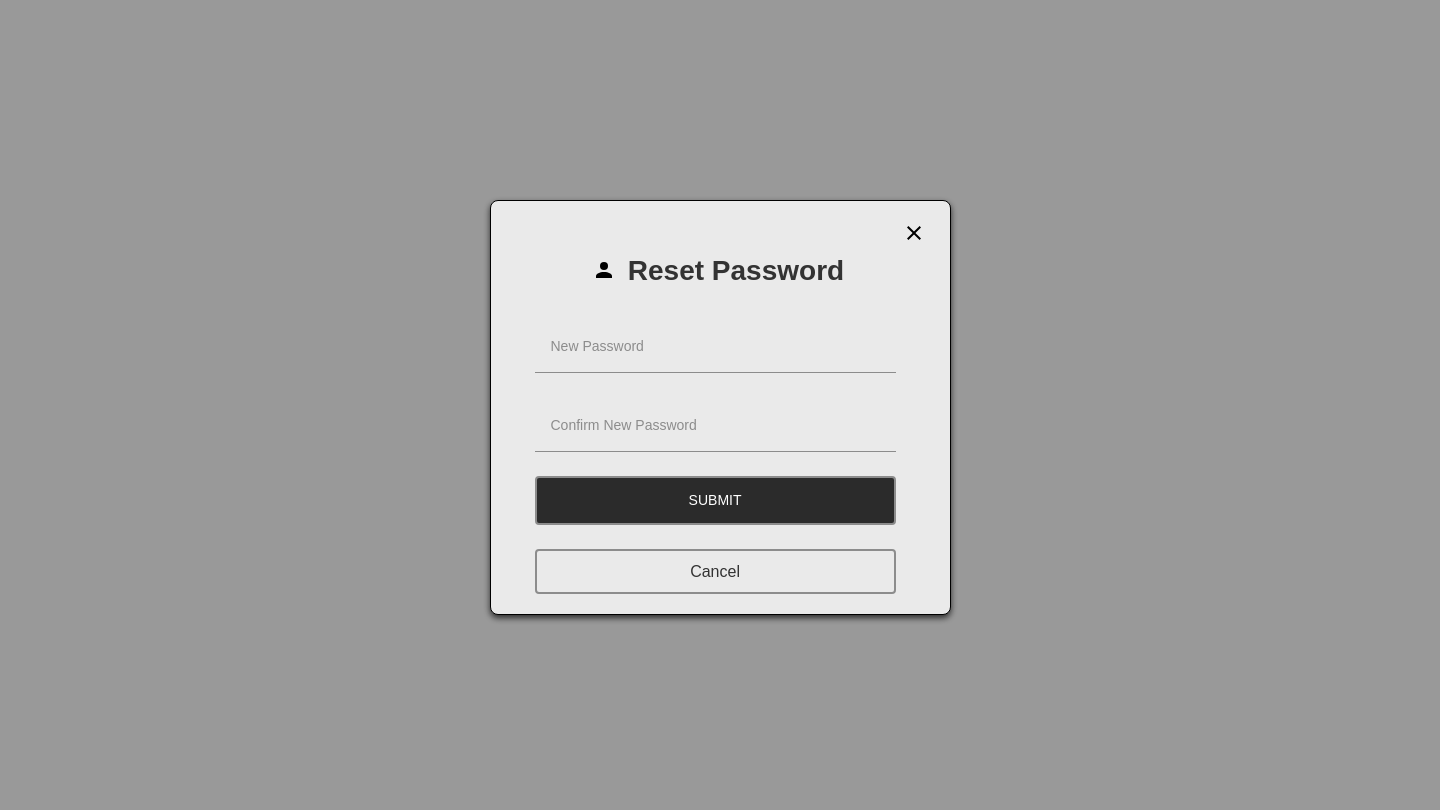
Test: Reset Password › displays alert on invalid token
Check: the heading "Reset Password" is shown, box [628,249,844,294]
In the password field with placeholder "New Password": (715, 345) [534,318,896,373], type "password123"
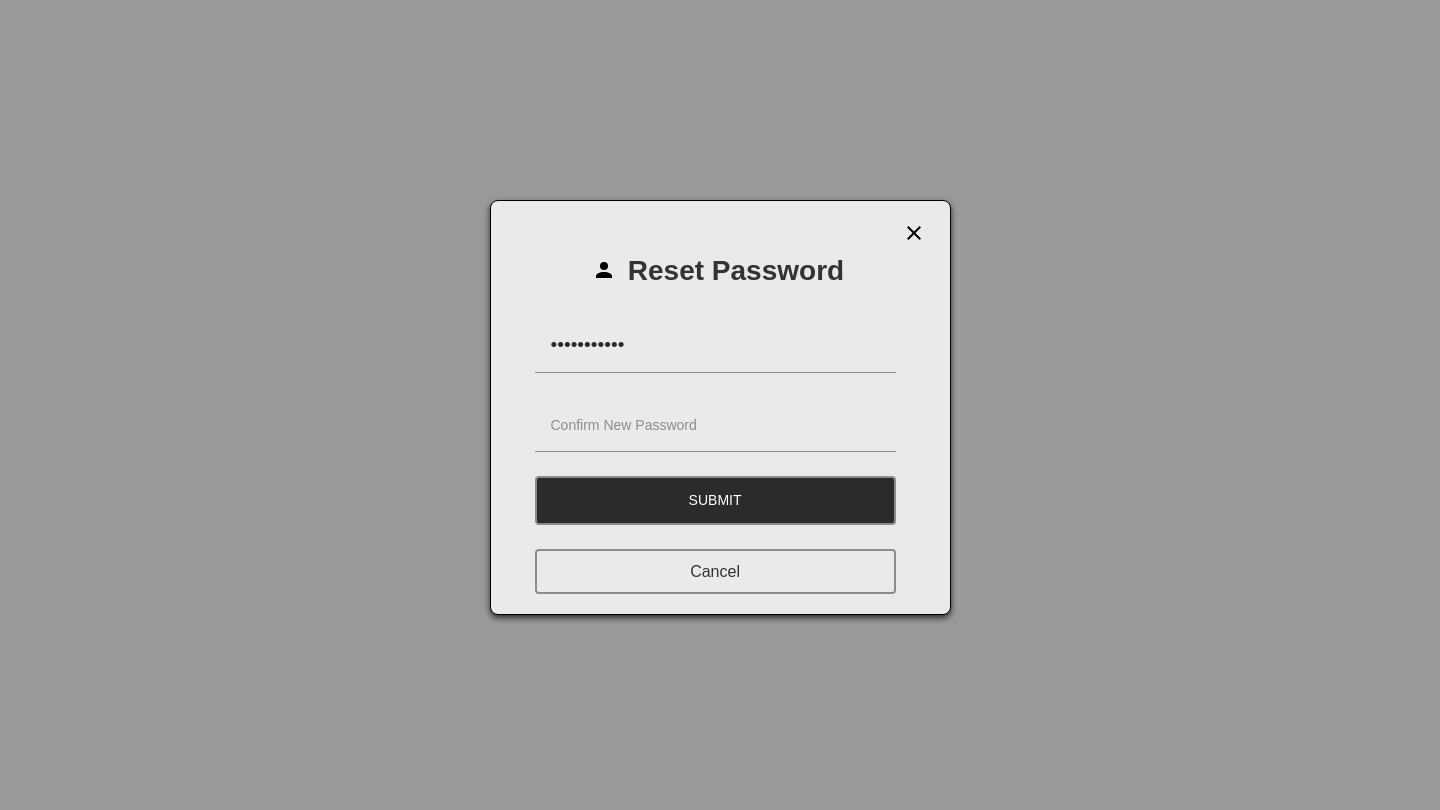
In the password field with placeholder "Confirm New Password": (715, 424) [534,397,896,452], type "password123"
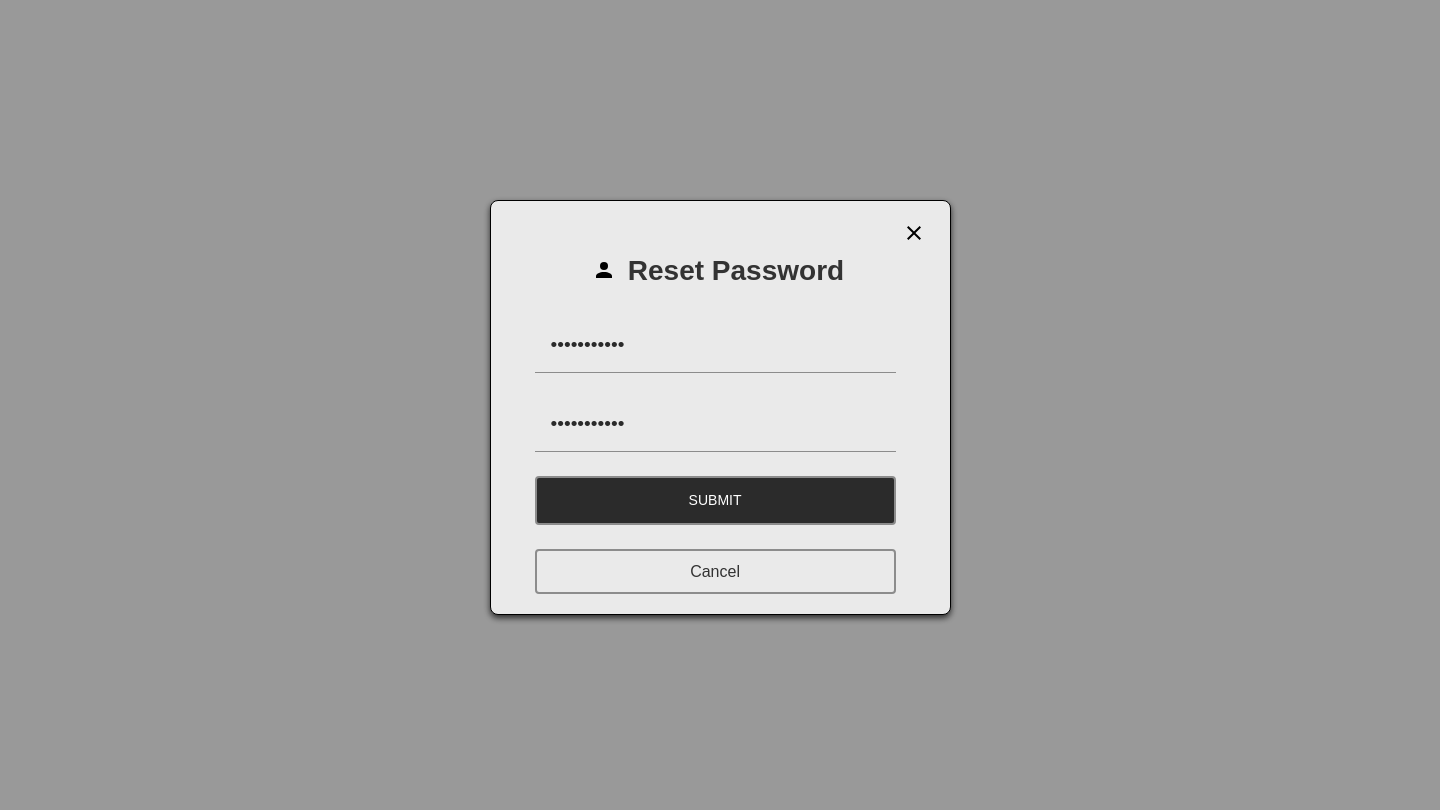
Click the button "SUBMIT": (715, 500) [534,476,896,525]
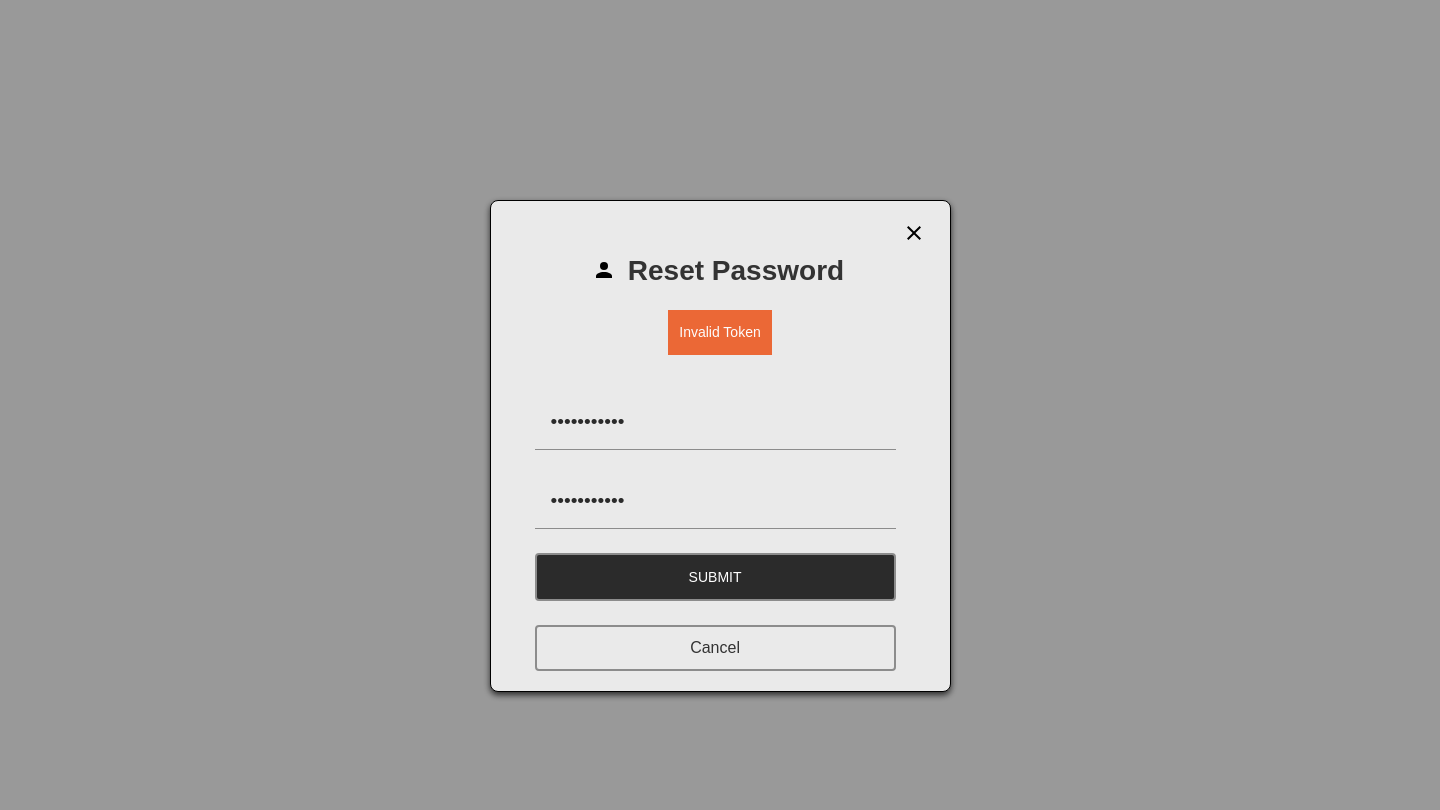
Check: the text "Invalid Token" is shown, box [668,310,772,355]
